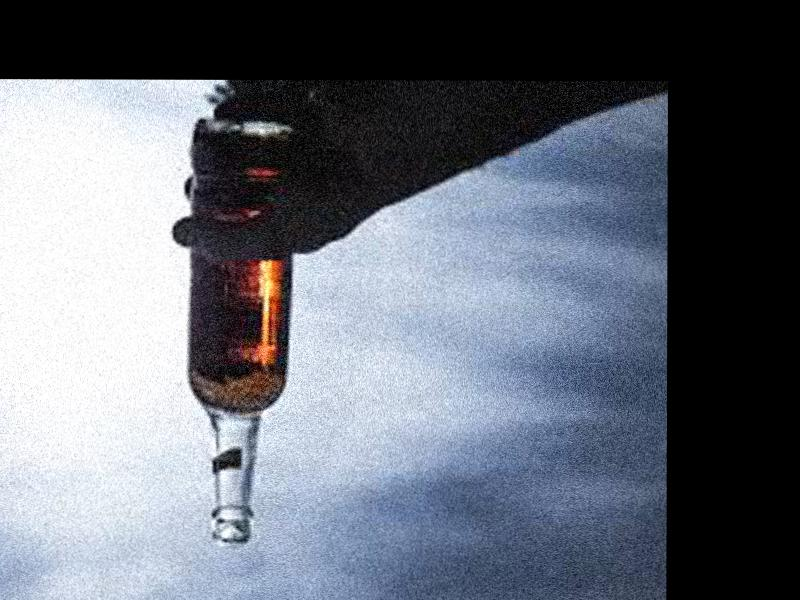Beer: (192, 125, 293, 545)
